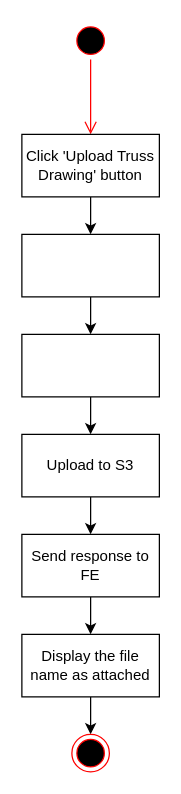
Some shapes in this 181 by 794 pixel diagram are drawn without their labels. Each missing label, with the centre of its shape:
"Select file" belongs at point (90, 265).
"Send PDF data and inspection_id to Persistence service" belongs at point (90, 365).
